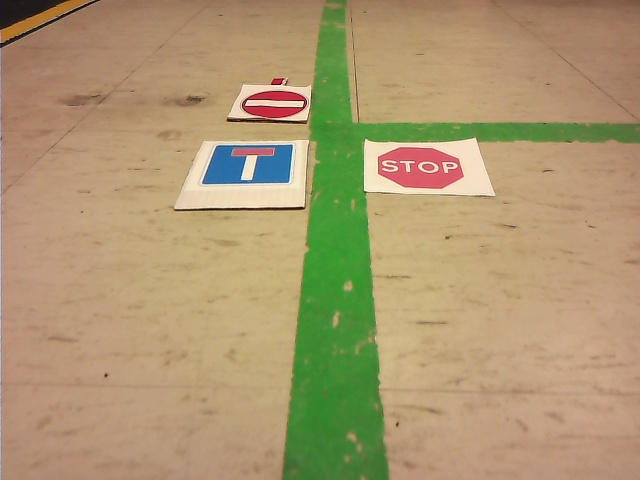DEAD END: (204, 144, 293, 183)
NO ENTRY: (241, 90, 308, 119)
STOP: (378, 147, 463, 188)
